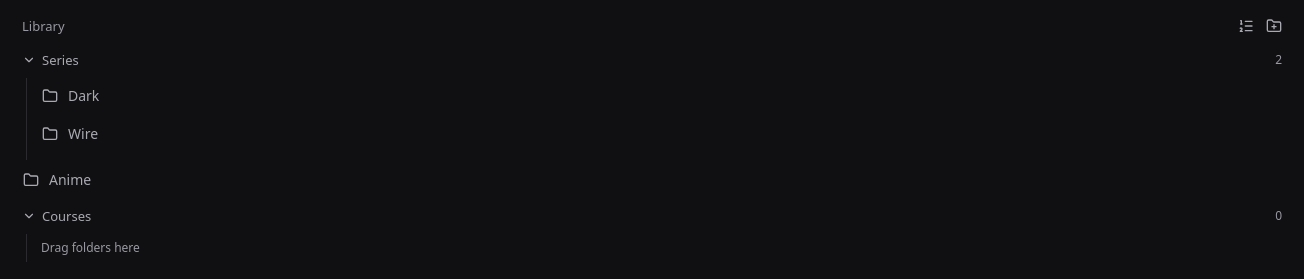
Test case: library groups › lists groups among the folders with their count, expanding and collapsing them
The width and height of the screenshot is (1304, 279).
expect the button named "Courses, 0 folders" is shown: met, box left=12, top=200, right=1292, bottom=232
expect the text "Drag folders here" is shown: met, box left=41, top=239, right=140, bottom=256
Click the button named "Series, 2 folders" at (60, 60), box left=12, top=44, right=1292, bottom=76
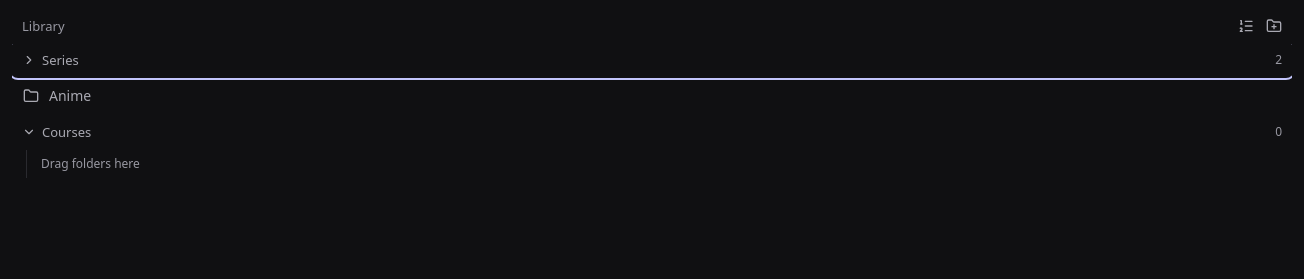
expect the button named "Series, 2 folders" is collapsed: met, box left=12, top=44, right=1292, bottom=76
expect the link "Dark" is gone: met
Press Enter
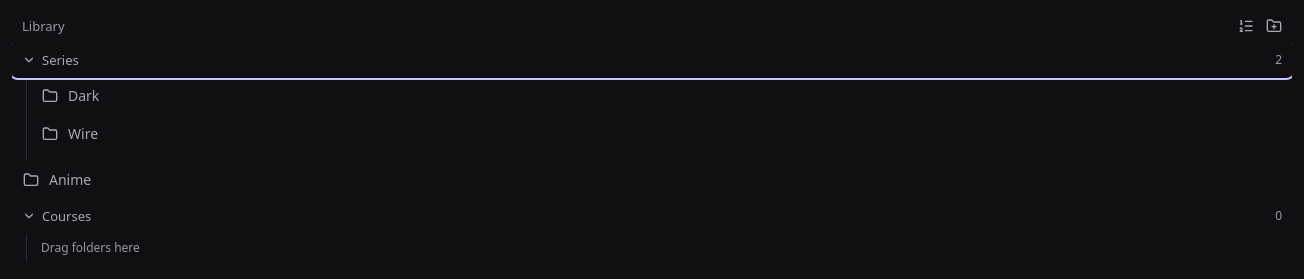
expect the link "Dark" is shown: met, box left=42, top=86, right=99, bottom=105
